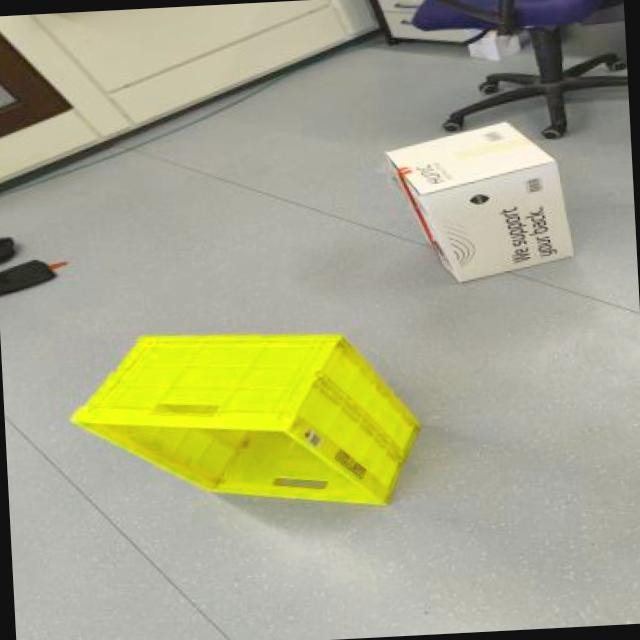box: (60, 292, 443, 563), (342, 101, 626, 297)
